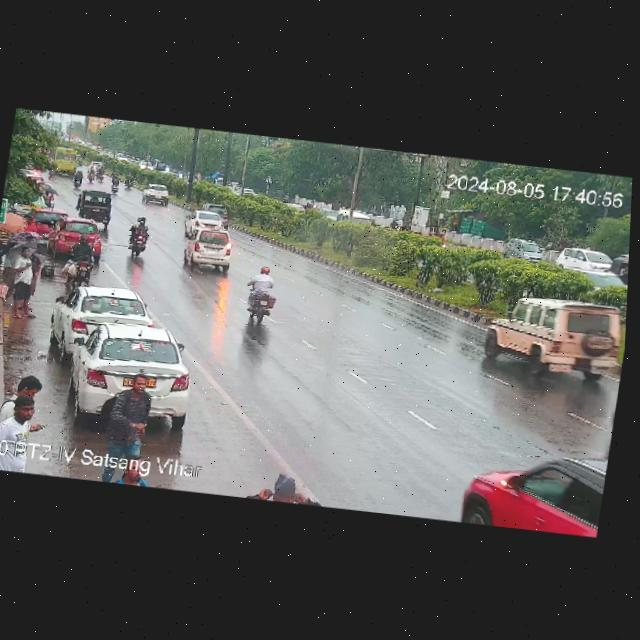car: (452, 272, 628, 402), (443, 418, 611, 537), (64, 318, 201, 423), (48, 278, 144, 345), (51, 213, 105, 259), (185, 225, 236, 267), (556, 245, 611, 277), (182, 207, 225, 241), (506, 236, 552, 265), (76, 187, 116, 220), (30, 206, 68, 237), (201, 200, 235, 225), (608, 245, 629, 281), (140, 184, 172, 205)
motorcycle: (243, 262, 283, 324), (64, 232, 99, 290), (127, 215, 152, 260), (107, 175, 120, 194), (84, 164, 96, 184), (72, 169, 83, 189), (124, 172, 135, 190), (97, 165, 107, 181)
person: (111, 368, 159, 456), (251, 467, 328, 506), (9, 244, 37, 316), (2, 391, 39, 434), (23, 246, 42, 297), (11, 372, 45, 399), (23, 215, 38, 233)
